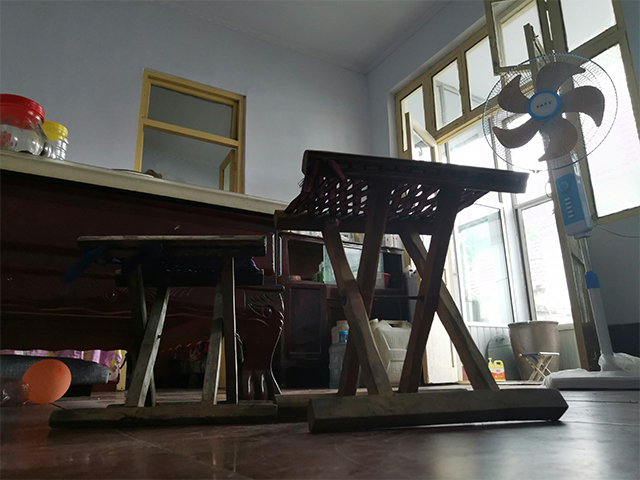stool: (271, 148, 570, 436), (47, 233, 281, 430), (515, 350, 561, 385)
table: (1, 147, 294, 410)
